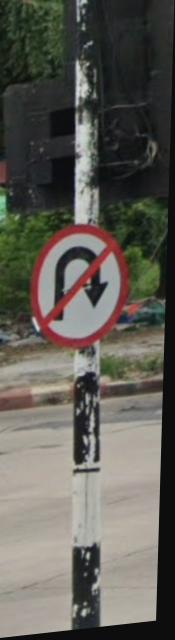not_u_turn_right: (32, 219, 135, 351)
